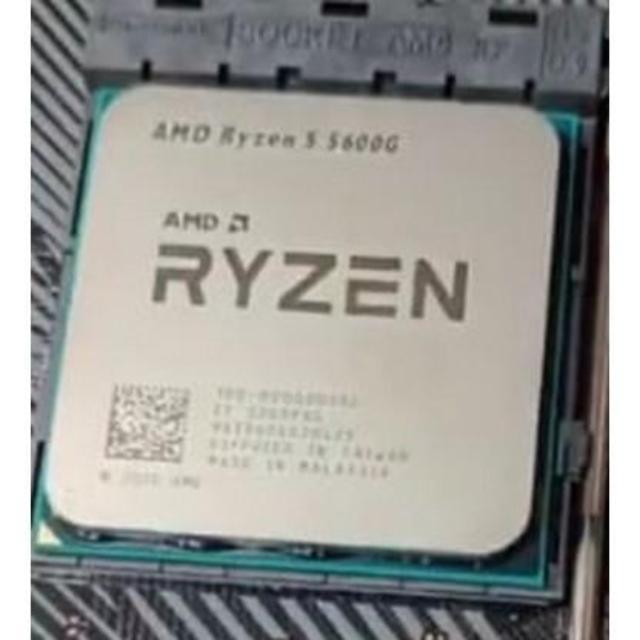CPU: (42, 80, 556, 602)
